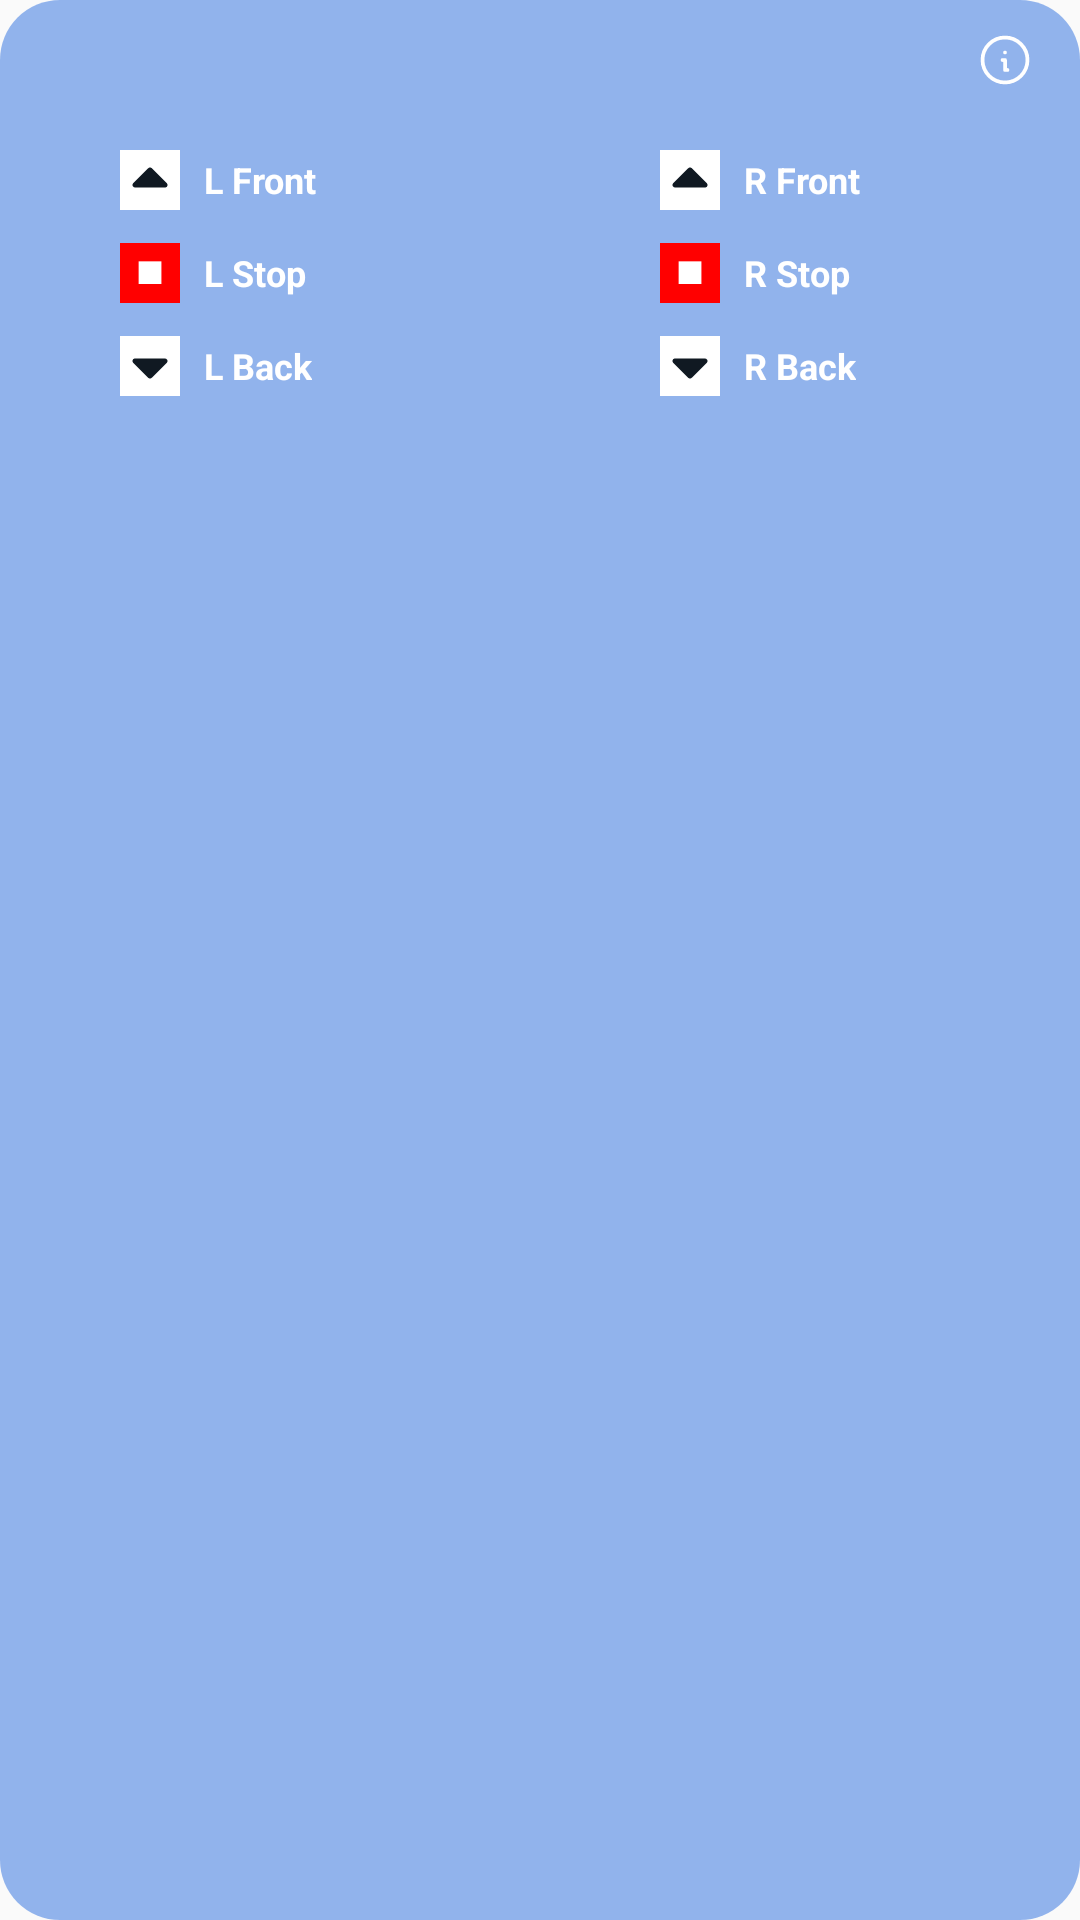

Screen size 1080px×1920px. Icon name, then its center in pixels as [x,y]:
info: [1005,60]
